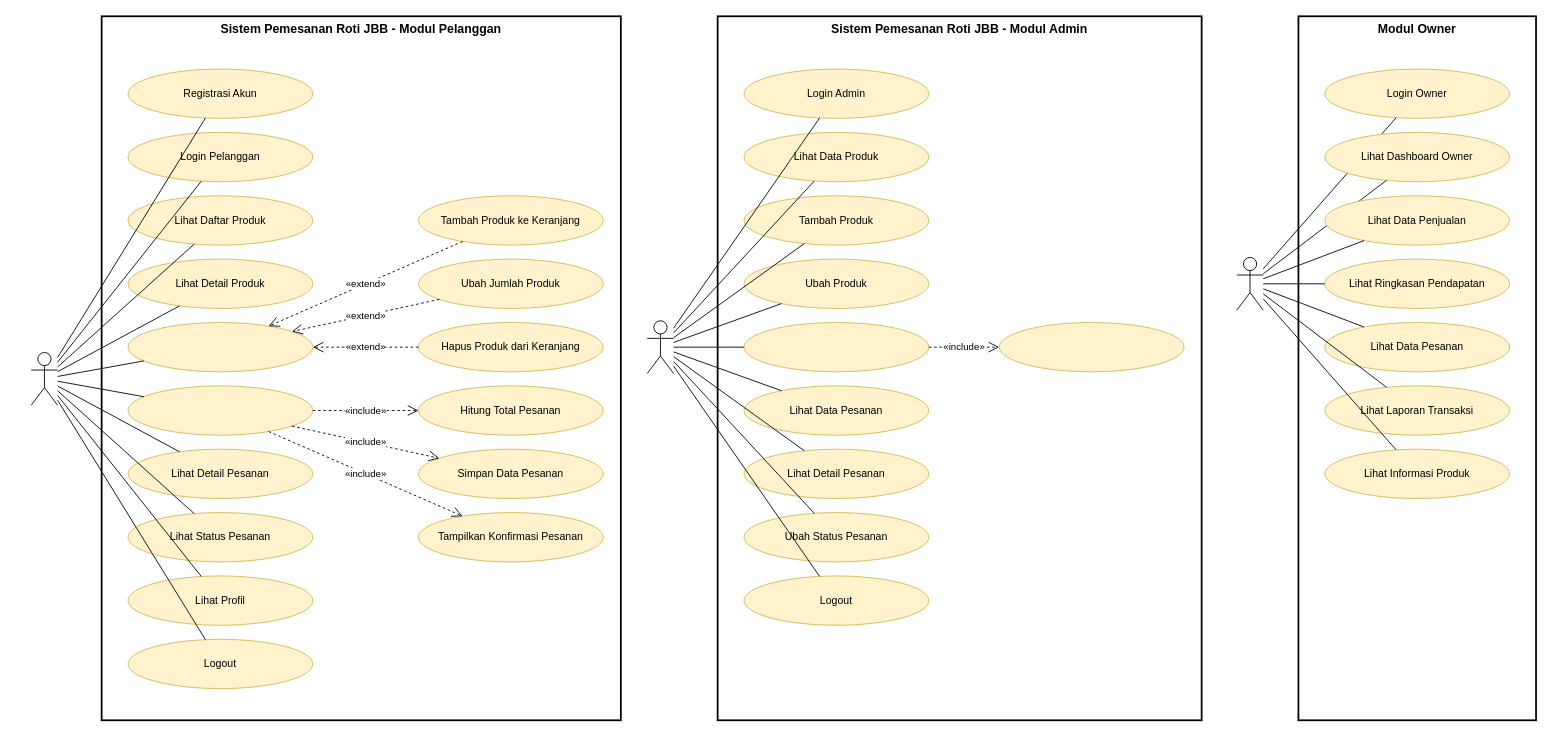
The diagram is 1552 pixels wide and 736 high, and some of its shapes have lost their labels. The centre of each missing label's shape, as x and y in pixels:
"Admin" goes at point (660, 347).
"Buat Pesanan" goes at point (220, 410).
"Hapus Produk" goes at point (836, 347).
"Kelola Keranjang" goes at point (220, 347).
"Konfirmasi Penghapusan" goes at point (1091, 347).
"Owner" goes at point (1249, 283).
"Pelanggan" goes at point (44, 378).
